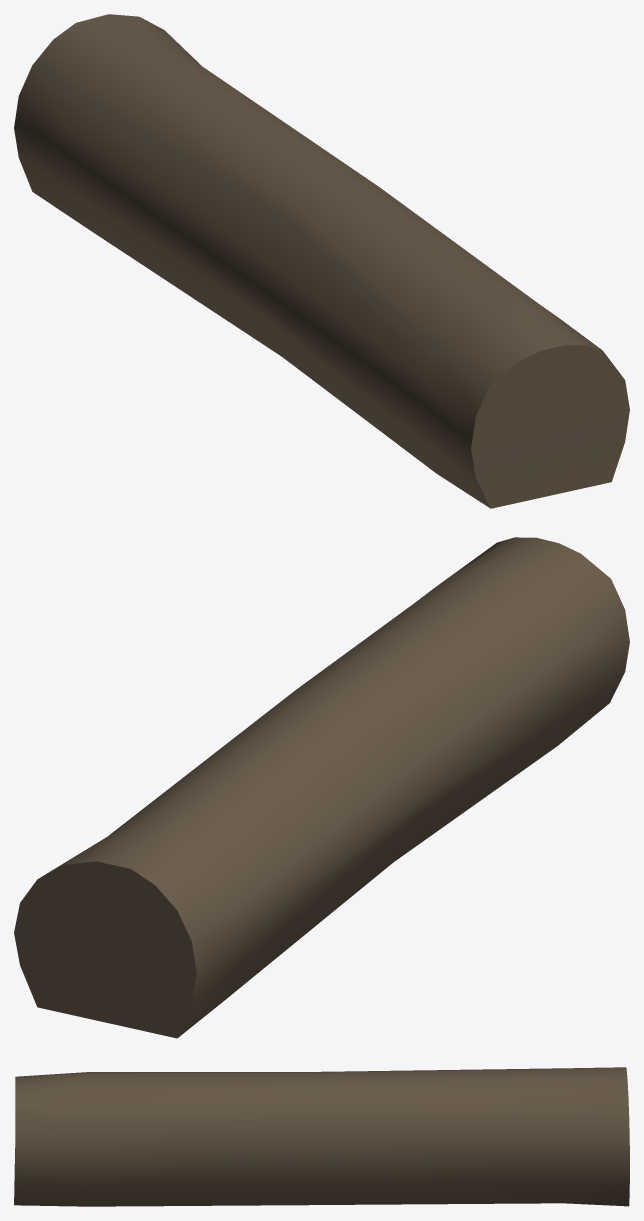
Rendered from tronco corto.fbx.
The picture shows the model from 3 angles, top to bottom: view 1: azimuth 30°, elevation 25°; view 2: azimuth 150°, elevation 25°; view 3: azimuth 270°, elevation 25°; orthographic projection. The views are drawn at different scales.
Parts seen in each view (by area): view 1: pCylinder2; view 2: pCylinder2; view 3: pCylinder2.
Boxes of the visible parts, x1,y1,x2,y2 form: pCylinder2: [14, 14, 629, 508]; pCylinder2: [14, 537, 629, 1038]; pCylinder2: [14, 1067, 629, 1206].
Bounding box in the file's own units: 0.7672 × 0.6527 × 3.37.
